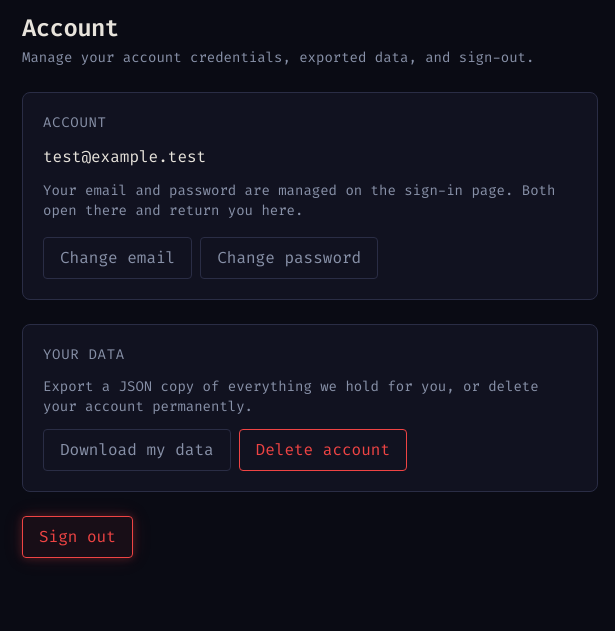
Test: Profile page › says so when the export cannot be gathered, and saves nothing
Expected: the text "test@example.test" is shown, [43,146,206,167]
What coordinates should you click on to do the following:
click the button "Download my data"
I would click on:
 (137, 450)
Its box is [43,429,231,471].
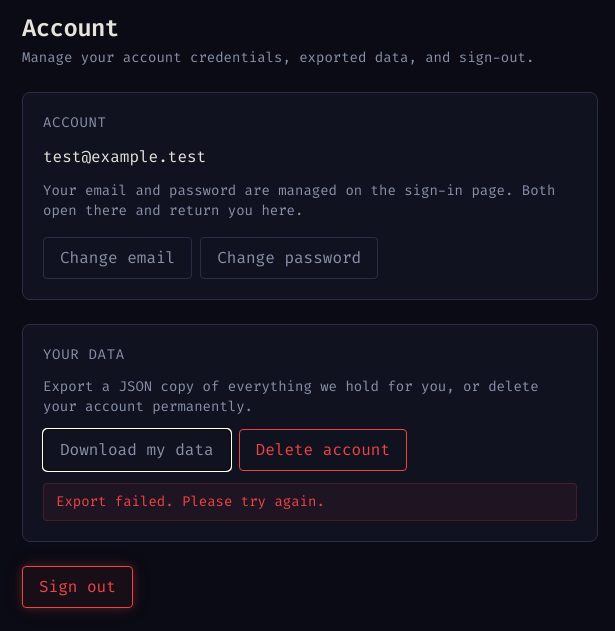
Result: the text "Export failed. Please try again." is shown at [43,483,577,521]
